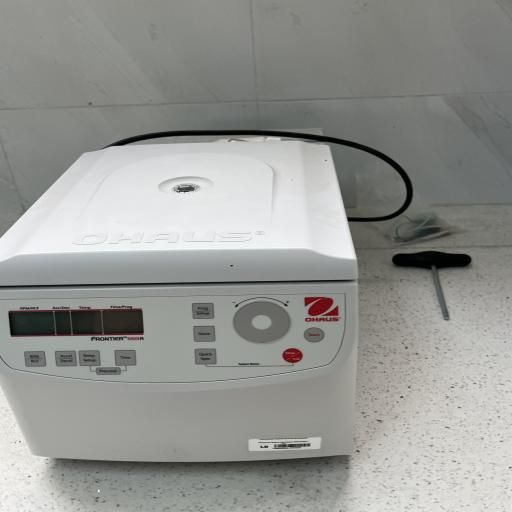Centrifuga_Ohaus_Frontier: (1, 122, 415, 484)
